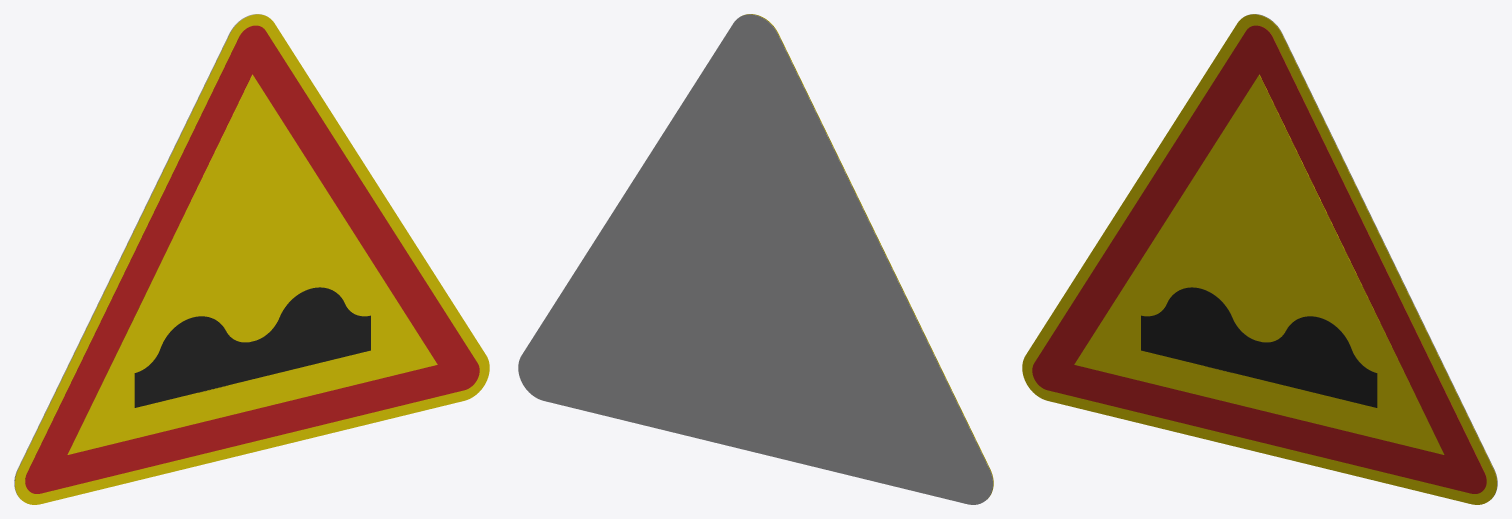
3 renders of one model, left to right at view 1: azimuth 30°, elevation 25°; view 2: azimuth 150°, elevation 25°; view 3: azimuth 330°, elevation 25°, orthographic.
Parts seen in each view (by area): view 1: AK2_p02, AK2_p01, AK2_p00, AK2_p03, AK2_dos; view 2: AK2_dos, AK2_p00; view 3: AK2_p02, AK2_p01, AK2_p00, AK2_p03, AK2_dos.
Boxes of the visible parts, bbox=[...] form: AK2_p02: bbox=[67, 74, 437, 454]; AK2_p01: bbox=[25, 25, 479, 493]; AK2_p00: bbox=[15, 14, 489, 504]; AK2_p03: bbox=[134, 287, 370, 407]; AK2_dos: bbox=[14, 14, 267, 499]; AK2_dos: bbox=[518, 14, 992, 504]; AK2_p00: bbox=[740, 14, 993, 499]; AK2_p02: bbox=[1074, 74, 1444, 454]; AK2_p01: bbox=[1032, 25, 1486, 493]; AK2_p00: bbox=[1022, 14, 1496, 504]; AK2_p03: bbox=[1141, 287, 1377, 407]; AK2_dos: bbox=[1244, 14, 1497, 499].
Bounding box in the file's own units: 0.7 × 0.6162 × 0.0039.
